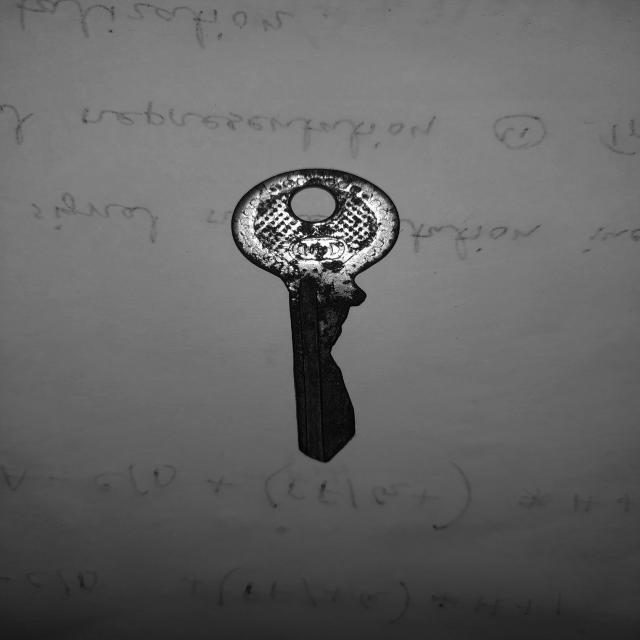KEY: (232, 168, 399, 462)
